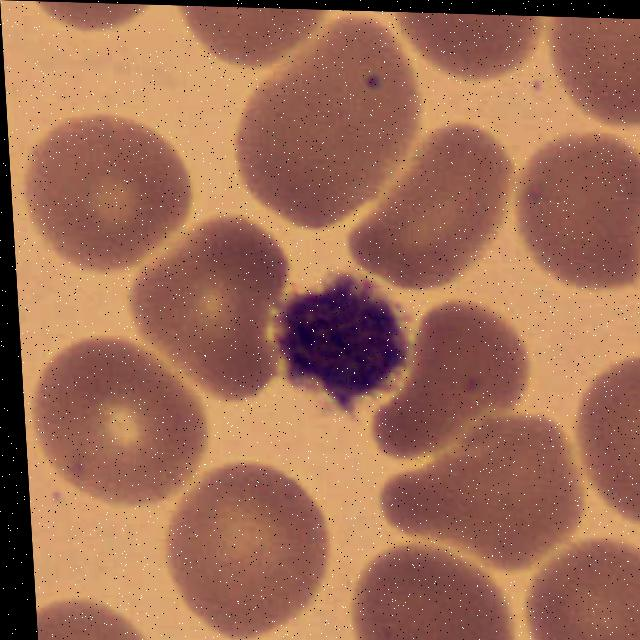platelets: (266, 263, 423, 420)
rbc: (232, 9, 430, 217), (162, 453, 346, 636), (124, 212, 300, 402), (26, 337, 224, 505), (341, 118, 528, 289), (13, 108, 197, 272), (391, 412, 582, 560), (509, 129, 640, 297), (351, 532, 523, 640), (562, 343, 640, 534), (395, 12, 548, 100), (524, 525, 640, 640), (545, 16, 640, 133), (178, 6, 337, 74), (33, 560, 162, 640), (28, 1, 162, 41)
